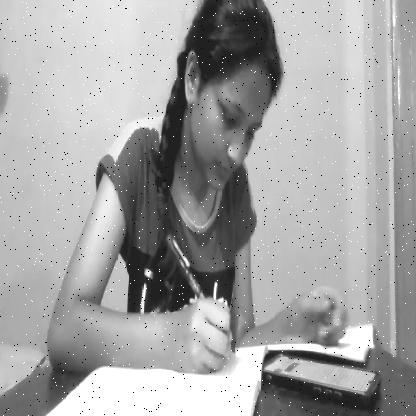Distracted: (172, 2, 289, 203)
